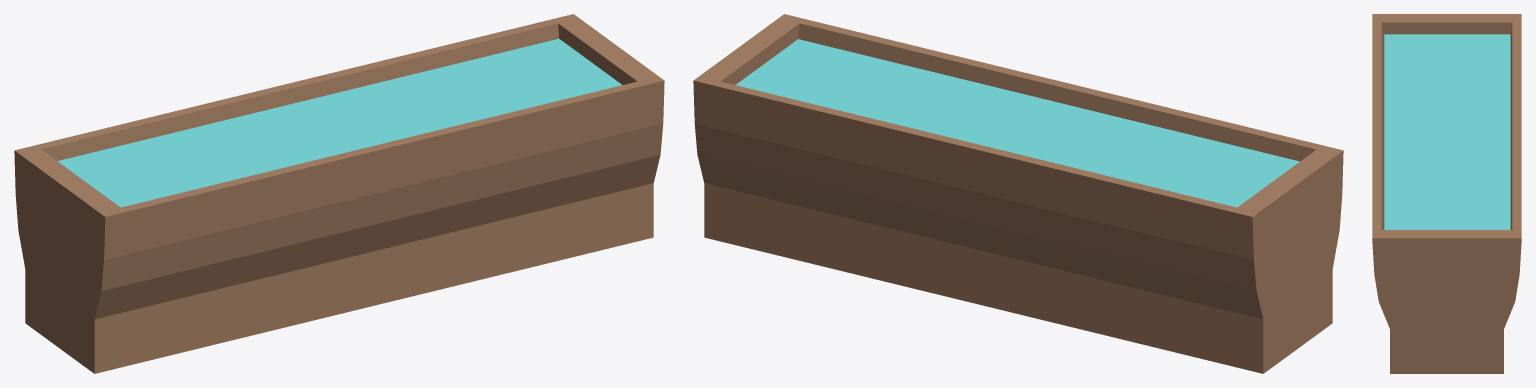
The model's file is water-trough.fbx.
The picture shows the model from 3 angles, left to right: view 1: azimuth 30°, elevation 25°; view 2: azimuth 150°, elevation 25°; view 3: azimuth 270°, elevation 25°; orthographic projection. The views are drawn at different scales.
Parts seen in each view (by area): view 1: Cube; view 2: Cube; view 3: Cube.
Boxes of the visible parts, left/top/right/bottom form: Cube: left=14, top=14, right=664, bottom=373; Cube: left=693, top=14, right=1343, bottom=373; Cube: left=1372, top=14, right=1521, bottom=373.
Bounding box in the file's own units: 94.35 × 26.58 × 26.58.
